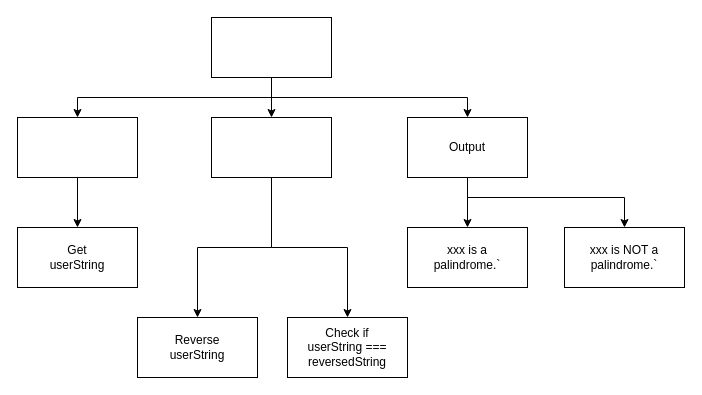
This 702x395 diagram has some shape labels left out. Here are the shapes that lost their labels. From the top down, the centre of each, then its label:
the point at 271,47: palindrome
the point at 77,147: Input
the point at 271,147: Process
